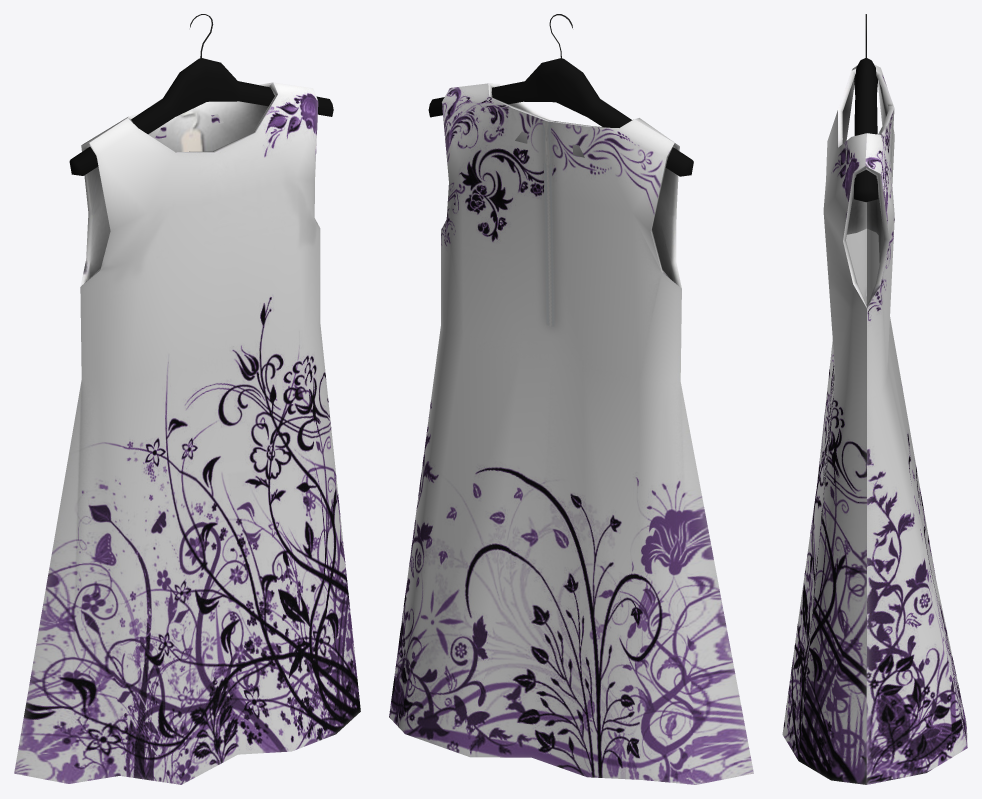
Rendered from dress1.dae.
3 renders of one model, left to right at view 1: azimuth 30°, elevation 25°; view 2: azimuth 150°, elevation 25°; view 3: azimuth 270°, elevation 25°, orthographic. The views are drawn at different scales.
Parts seen in each view (by area): view 1: _3DGeom_7_Defintion (×2), _3DGeom_8_Defintion; view 2: _3DGeom_7_Defintion (×3), _3DGeom_8_Defintion; view 3: _3DGeom_7_Defintion (×4), _3DGeom_8_Defintion.
Boxes of the visible parts, x1,y1,x2,y2 form: _3DGeom_7_Defintion (×2): (14, 82, 360, 784); _3DGeom_8_Defintion: (69, 58, 333, 175); _3DGeom_7_Defintion (×3): (389, 83, 753, 784); _3DGeom_8_Defintion: (428, 58, 693, 176); _3DGeom_7_Defintion (×4): (782, 64, 967, 784); _3DGeom_8_Defintion: (854, 58, 878, 202).
Size of the model in its own units: 8.85 by 4.26 by 18.02.
Materials: 3 (1 with a texture image).
